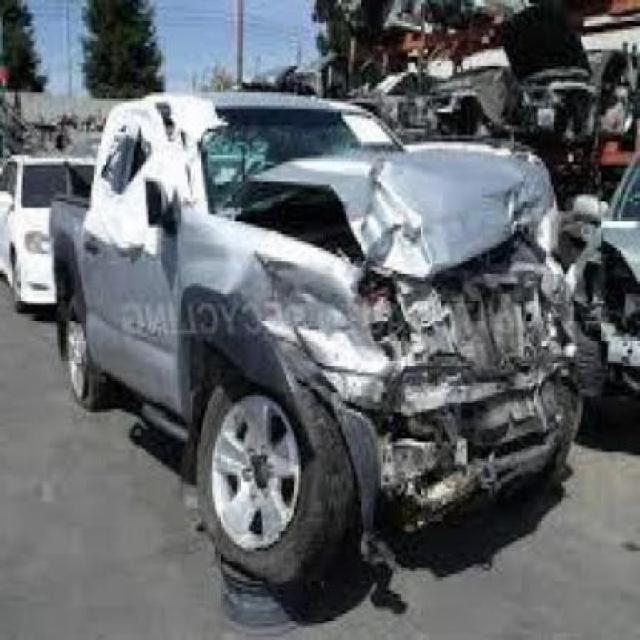damage: (209, 149, 572, 546)
